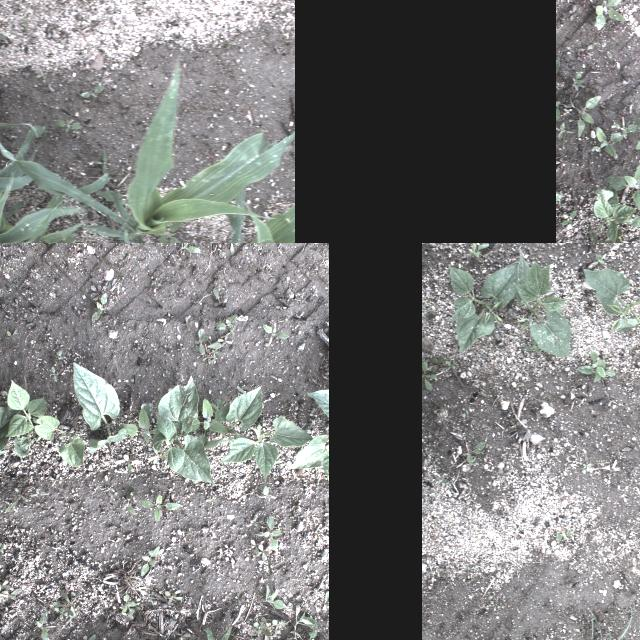crop: (19, 61, 295, 243), (0, 122, 118, 243), (448, 260, 522, 354), (513, 248, 571, 360), (218, 415, 312, 483), (157, 378, 216, 484), (72, 363, 126, 455), (213, 190, 294, 243), (582, 268, 640, 333), (5, 378, 47, 459), (34, 414, 86, 468), (593, 183, 638, 243), (118, 404, 158, 454), (191, 396, 227, 449), (226, 386, 264, 436), (288, 434, 328, 480), (0, 406, 22, 460), (308, 389, 328, 418), (0, 123, 18, 153), (466, 442, 486, 466)
weed: (569, 604, 640, 640), (603, 162, 640, 214), (568, 96, 602, 140), (576, 349, 618, 383), (136, 493, 182, 522), (593, 0, 625, 33), (590, 126, 624, 156), (294, 606, 318, 640), (192, 329, 222, 355), (260, 516, 282, 550), (52, 588, 76, 618), (577, 228, 623, 243), (625, 116, 640, 161), (261, 322, 289, 346), (264, 584, 286, 614), (90, 290, 108, 324), (140, 546, 160, 576), (203, 625, 241, 640), (625, 201, 640, 237), (52, 118, 84, 134), (114, 454, 140, 472), (422, 361, 437, 392), (34, 610, 49, 640), (215, 315, 237, 335), (556, 121, 574, 141), (467, 243, 489, 259), (82, 85, 106, 99), (570, 68, 584, 92), (120, 593, 134, 615), (171, 243, 198, 254), (560, 210, 578, 226), (165, 590, 183, 606), (0, 587, 22, 600), (12, 486, 28, 502), (556, 100, 570, 118), (52, 603, 66, 621), (522, 339, 540, 353), (432, 354, 444, 374), (212, 289, 226, 305), (148, 448, 164, 462), (124, 484, 136, 502), (257, 544, 269, 562), (298, 631, 322, 640), (174, 627, 190, 640), (215, 333, 232, 345), (555, 530, 575, 540), (422, 303, 437, 316), (72, 633, 97, 640), (568, 5, 578, 22), (0, 607, 14, 619), (32, 489, 48, 499), (253, 624, 269, 634), (258, 618, 274, 628), (49, 473, 60, 487), (3, 502, 17, 512), (595, 253, 605, 265), (489, 600, 501, 610), (252, 541, 260, 555), (263, 486, 271, 500), (0, 579, 8, 593), (5, 330, 15, 340), (132, 602, 142, 612), (52, 366, 58, 382), (106, 489, 118, 497), (212, 349, 222, 358), (230, 243, 238, 254), (235, 592, 241, 606), (434, 478, 448, 484), (55, 350, 63, 360), (126, 506, 136, 514), (324, 592, 328, 612), (446, 362, 456, 370), (583, 462, 591, 472), (202, 356, 215, 362), (206, 498, 218, 504), (0, 29, 5, 43), (0, 634, 11, 640), (274, 620, 282, 628), (460, 410, 468, 418), (22, 18, 28, 28), (16, 548, 22, 558), (35, 73, 43, 79), (230, 41, 238, 47), (34, 545, 40, 553), (56, 394, 64, 400), (149, 595, 157, 601), (250, 520, 258, 526), (305, 422, 313, 428), (272, 628, 278, 636), (177, 40, 183, 46), (98, 582, 104, 588), (0, 543, 3, 552), (263, 636, 269, 640), (530, 596, 534, 602), (0, 265, 2, 272)
